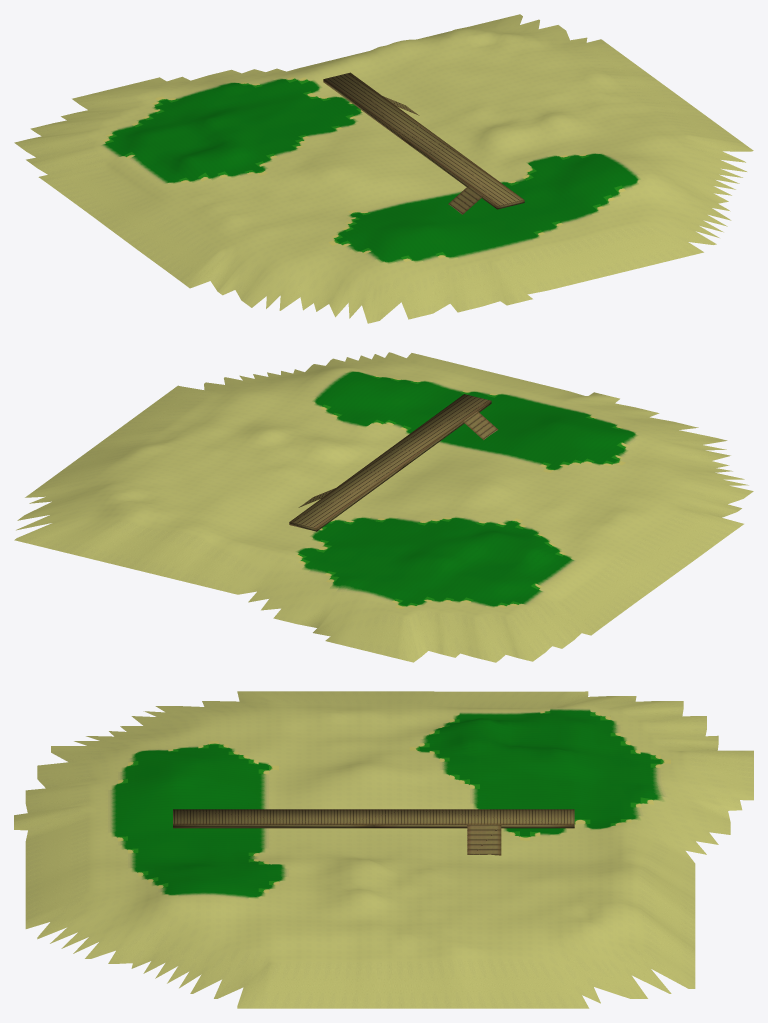
Rendered from map_44.fbx.
3 renders of one model, top to bottom at view 1: azimuth 30°, elevation 25°; view 2: azimuth 150°, elevation 25°; view 3: azimuth 270°, elevation 25°, orthographic. The views are drawn at different scales.
Visible parts, largest first — view 1: Plane.001; view 2: Plane.001; view 3: Plane.001.
Boxes of the visible parts, x1,y1,x2,y2 form: Plane.001: (14,14,753,323); Plane.001: (14,352,753,662); Plane.001: (14,691,753,1008).
Bounding box in the file's own units: 150 × 8.62 × 147.
Materials: 8 (8 with a texture image).
